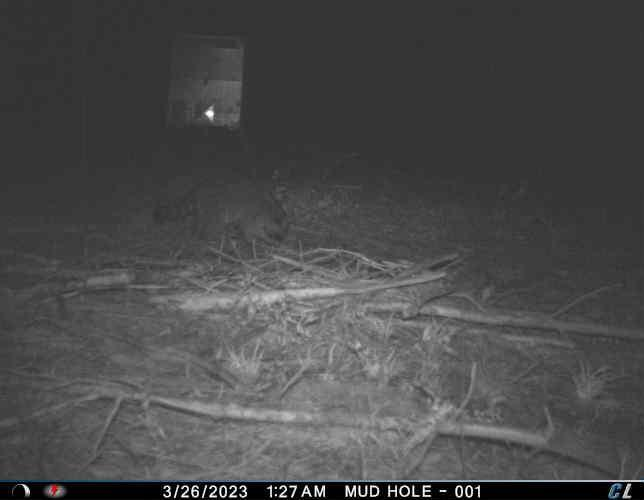Raccoon: (152, 177, 295, 254)
